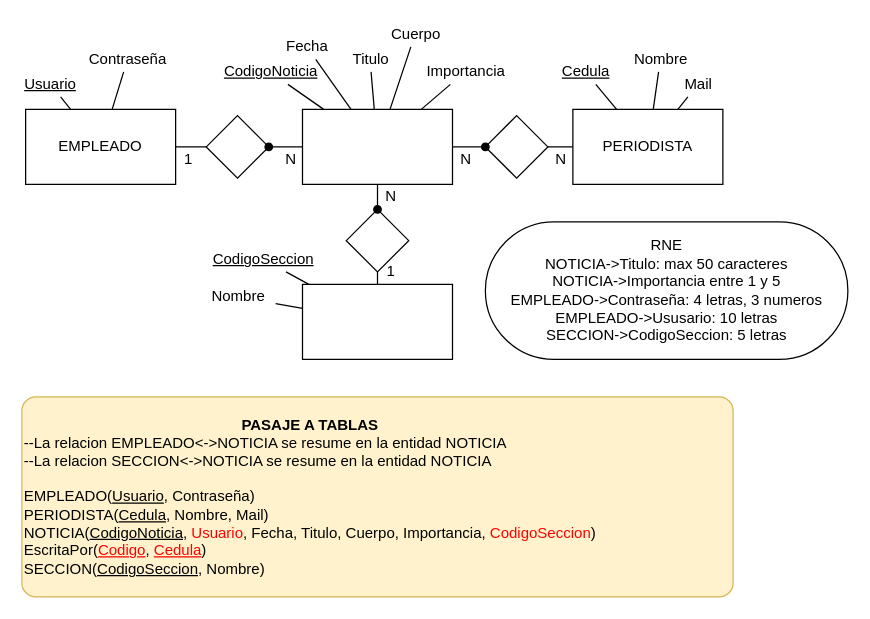
The diagram is 870 pixels wide and 619 high, and some of its shapes have lost their labels. Each missing label, with the centre of its shape:
"Escrita Por" goes at point (516, 146).
"NOTICIA" goes at point (376, 146).
"SECCION" goes at point (376, 321).
